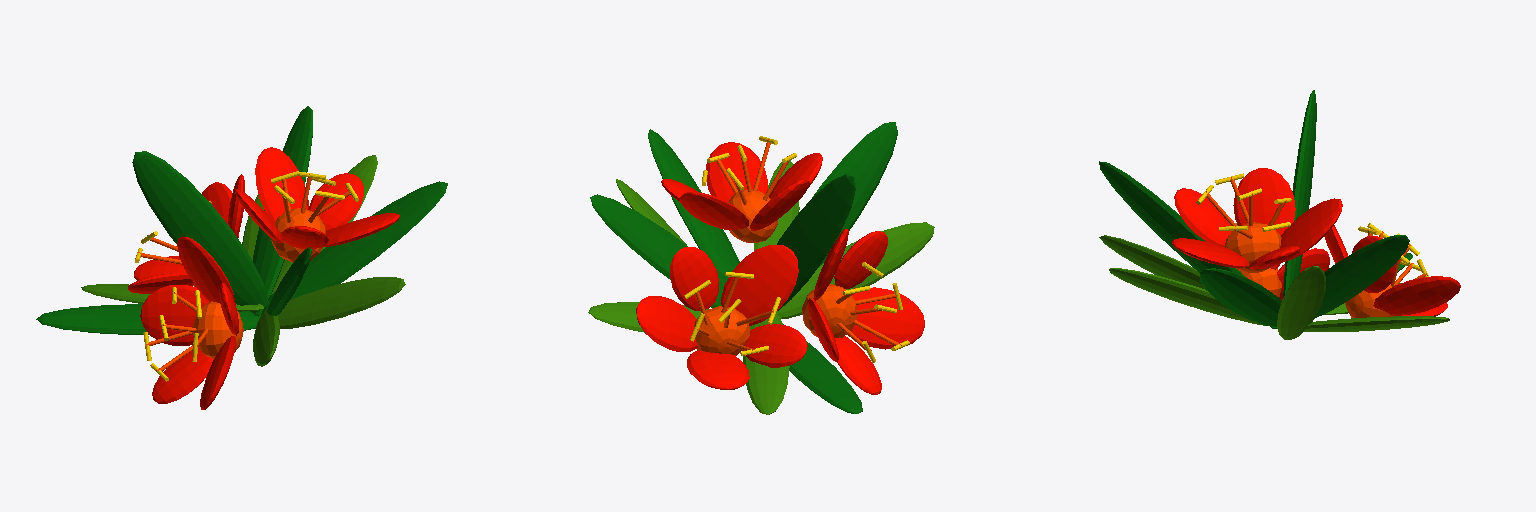
The picture shows the model from 3 angles: view 1: azimuth 30°, elevation 25°; view 2: azimuth 150°, elevation 25°; view 3: azimuth 270°, elevation 25°; orthographic projection.
Visible parts, largest first — view 1: group[number redacted], group[number redacted], group[number redacted], group[number redacted], group[number redacted], group[number redacted], group[number redacted], group[number redacted], group[number redacted], group[number redacted], group[number redacted], group[number redacted] (+13 smaller); view 2: group[number redacted], group[number redacted], group[number redacted], group[number redacted], group[number redacted], group[number redacted], group[number redacted], group[number redacted], group[number redacted], group[number redacted], group[number redacted], group[number redacted] (+15 smaller); view 3: group[number redacted], group[number redacted], group[number redacted], group[number redacted], group[number redacted], group[number redacted], group[number redacted], group[number redacted], group[number redacted], group[number redacted], group[number redacted], group[number redacted] (+7 smaller).
Boxes of the visible parts, x1=… form: group[number redacted]: x1=132, y1=151, x2=268, y2=312; group[number redacted]: x1=261, y1=181, x2=447, y2=314; group[number redacted]: x1=278, y1=277, x2=405, y2=328; group[number redacted]: x1=36, y1=304, x2=260, y2=334; group[number redacted]: x1=253, y1=106, x2=312, y2=316; group[number redacted]: x1=140, y1=285, x2=208, y2=345; group[number redacted]: x1=255, y1=147, x2=308, y2=223; group[number redacted]: x1=177, y1=236, x2=235, y2=304; group[number redacted]: x1=152, y1=348, x2=213, y2=403; group[number redacted]: x1=308, y1=173, x2=363, y2=231; group[number redacted]: x1=193, y1=301, x2=243, y2=358; group[number redacted]: x1=323, y1=213, x2=399, y2=246; group[number redacted]: x1=777, y1=174, x2=855, y2=310; group[number redacted]: x1=721, y1=245, x2=798, y2=325; group[number redacted]: x1=590, y1=194, x2=727, y2=307; group[number redacted]: x1=812, y1=122, x2=897, y2=268; group[number redacted]: x1=648, y1=129, x2=739, y2=277; group[number redacted]: x1=848, y1=287, x2=924, y2=349; group[number redacted]: x1=776, y1=222, x2=934, y2=318; group[number redacted]: x1=636, y1=296, x2=697, y2=351; group[number redacted]: x1=783, y1=324, x2=862, y2=413; group[number redacted]: x1=670, y1=247, x2=718, y2=310; group[number redacted]: x1=743, y1=324, x2=807, y2=367; group[number redacted]: x1=706, y1=142, x2=767, y2=201; group[number redacted]: x1=1315, y1=235, x2=1409, y2=317; group[number redacted]: x1=1099, y1=161, x2=1243, y2=275; group[number redacted]: x1=1200, y1=268, x2=1281, y2=326; group[number redacted]: x1=1233, y1=168, x2=1295, y2=235; group[number redacted]: x1=1277, y1=266, x2=1325, y2=339; group[number redacted]: x1=1373, y1=276, x2=1460, y2=315; group[number redacted]: x1=1283, y1=90, x2=1316, y2=297; group[number redacted]: x1=1109, y1=268, x2=1264, y2=325; group[number redacted]: x1=1099, y1=235, x2=1204, y2=288; group[number redacted]: x1=1280, y1=198, x2=1342, y2=261; group[number redacted]: x1=1174, y1=188, x2=1231, y2=246; group[number redacted]: x1=1304, y1=316, x2=1449, y2=331.
Size of the model in its own units: 0.4909 by 0.3536 by 0.4965.